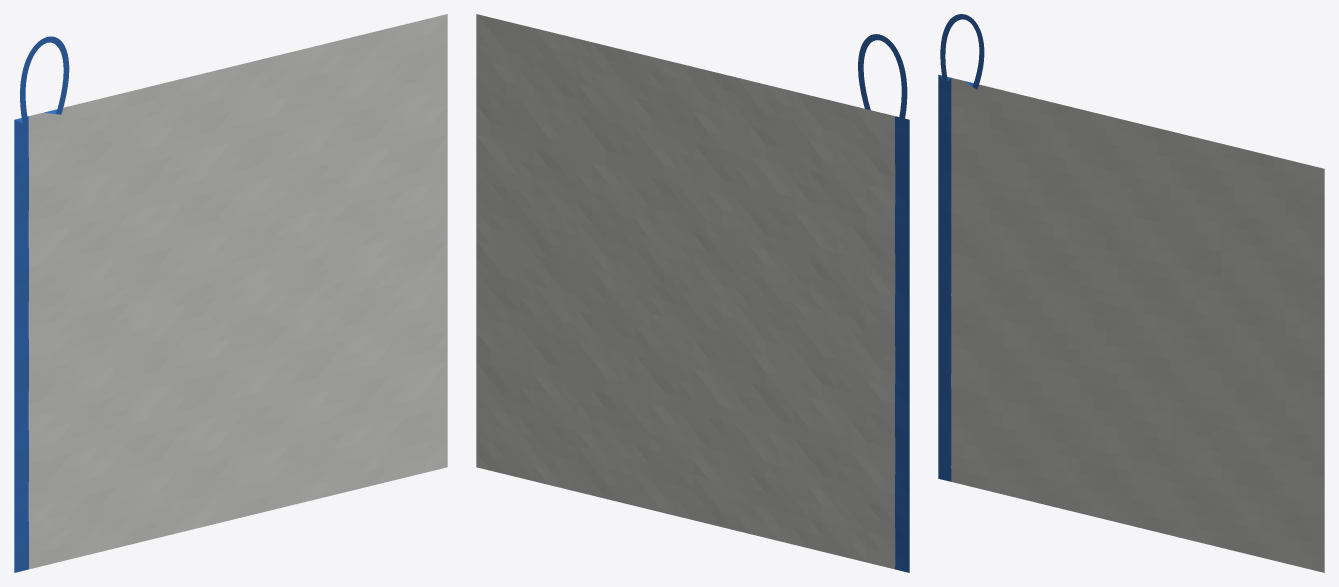
File: lap_sponge_unfolded.glb
3 renders of one model, left to right at view 1: azimuth 30°, elevation 25°; view 2: azimuth 150°, elevation 25°; view 3: azimuth 330°, elevation 25°, orthographic. The views are drawn at different scales.
Visible parts, largest first — view 1: CottonBody, XrayMarkerRegion, CountingLoop; view 2: CottonBody, XrayMarkerRegion, CountingLoop; view 3: CottonBody, XrayMarkerRegion, CountingLoop.
Part boxes in pixels (x1,y1,x2,y2): CottonBody: (28,14,447,569); XrayMarkerRegion: (14,116,28,572); CountingLoop: (15,36,69,123); CottonBody: (476,14,895,569); XrayMarkerRegion: (895,116,909,572); CountingLoop: (858,34,907,118); CottonBody: (951,78,1324,572); XrayMarkerRegion: (938,75,951,481); CountingLoop: (939,14,984,89).
Bounding box in the file's own units: 0.4572 × 0.5342 × 0.00334.
